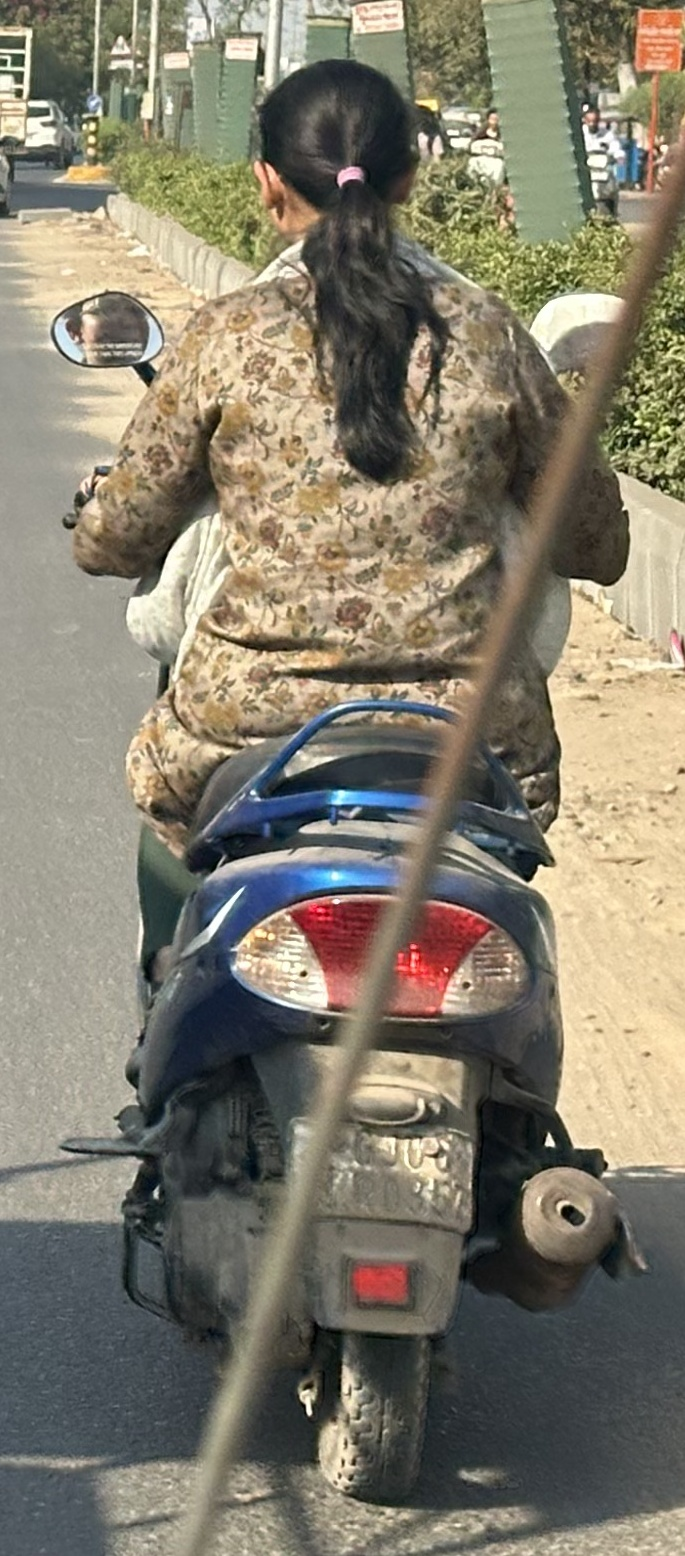BikeWithRider: (27, 41, 655, 1509)
NoHelmet: (233, 44, 452, 263)
